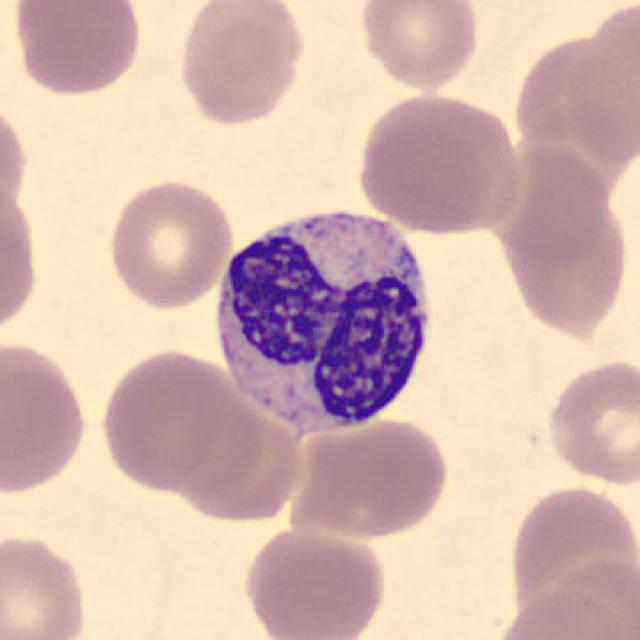Neutrophil: (205, 196, 442, 444)
RBC: (96, 346, 245, 496), (286, 414, 454, 542), (354, 94, 498, 236), (496, 197, 633, 341), (505, 482, 636, 630), (511, 40, 636, 189), (105, 176, 236, 312), (168, 398, 307, 526), (238, 523, 389, 640), (174, 0, 310, 129), (486, 137, 614, 260), (0, 335, 92, 497), (9, 0, 147, 99), (554, 6, 640, 162), (542, 354, 638, 490), (353, 0, 483, 93), (0, 529, 92, 640), (491, 582, 633, 640), (546, 552, 638, 640), (0, 173, 43, 342), (0, 95, 30, 228)
